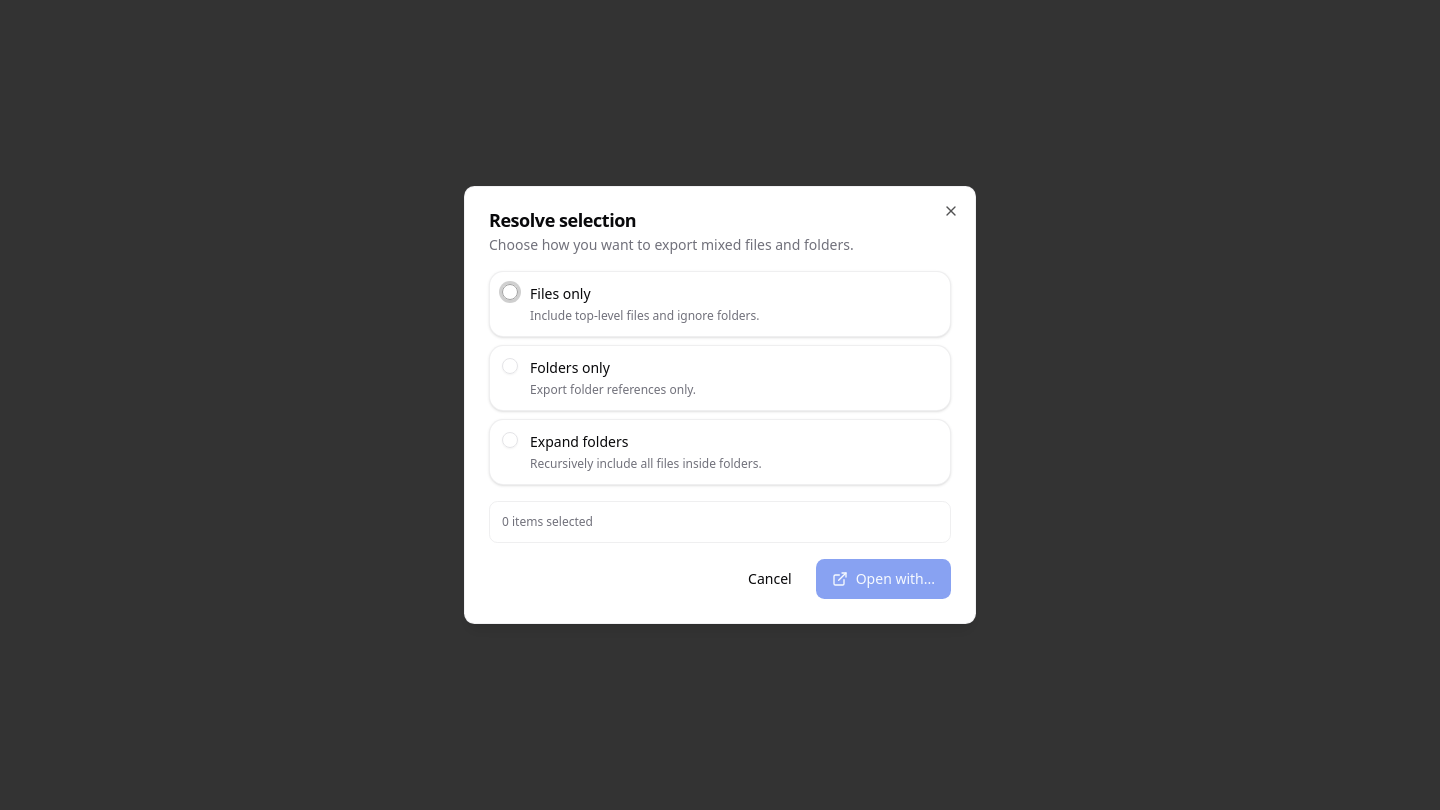
Test case: ExportResolutionModal › shows file kind checkboxes when multiple kinds exist
Click the radio button named "files only" next to "Files only".
click(510, 292)  # box [502,284,518,300]
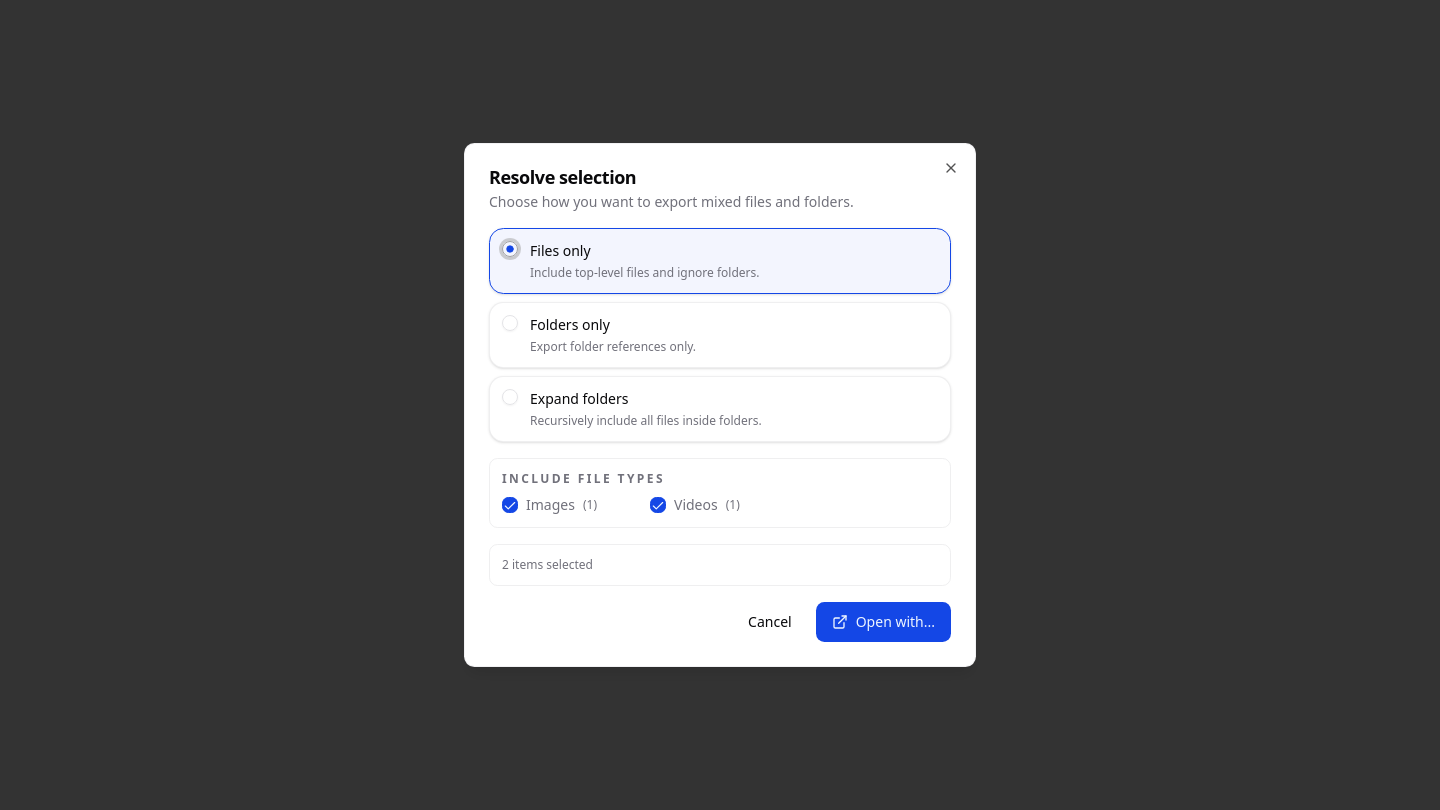
Expected: the text "Images (1)" is shown, [502,495,597,514]
Expected: the text "Videos (1)" is shown, [650,495,740,514]
